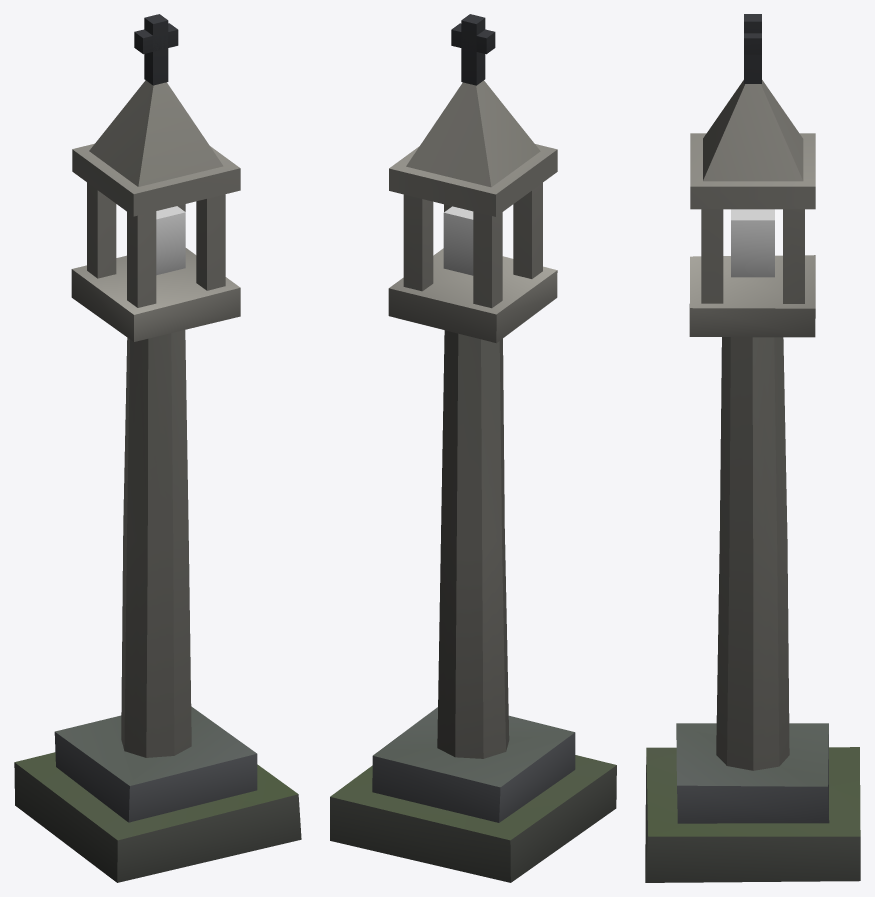
File: ph_prop_soul_lantern.glb
3 renders of one model, left to right at view 1: azimuth 30°, elevation 25°; view 2: azimuth 150°, elevation 25°; view 3: azimuth 270°, elevation 25°, orthographic.
Visible parts, largest first — view 1: ph_prop_soul_lantern; view 2: ph_prop_soul_lantern; view 3: ph_prop_soul_lantern.
Part boxes in pixels (bbox=[...]): ph_prop_soul_lantern: bbox=[14, 14, 301, 882]; ph_prop_soul_lantern: bbox=[330, 14, 616, 882]; ph_prop_soul_lantern: bbox=[645, 14, 860, 882].
Size of the model in its own units: 0.687 by 2.88 by 0.6871.
